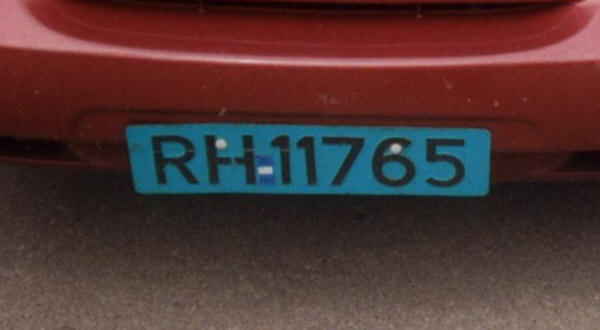license_plate: (123, 123, 492, 198)
